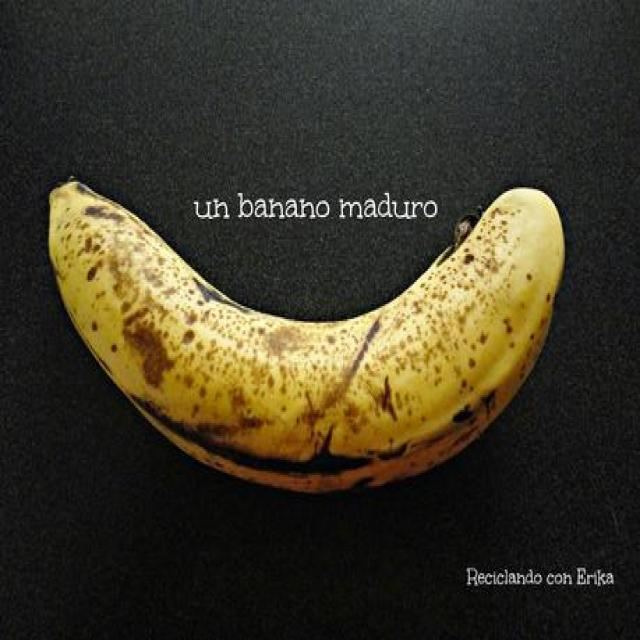Cascara de banano: (49, 184, 564, 498)
